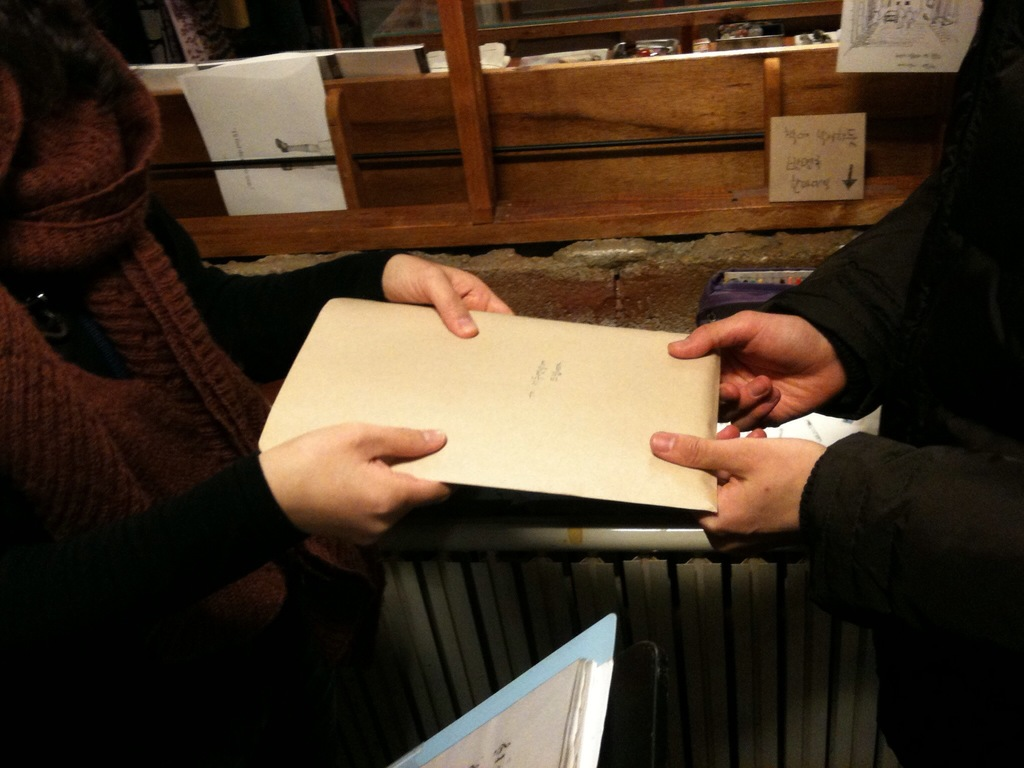Human_hand: (271, 428, 456, 549), (662, 302, 843, 424), (644, 425, 832, 538), (388, 254, 517, 340)
